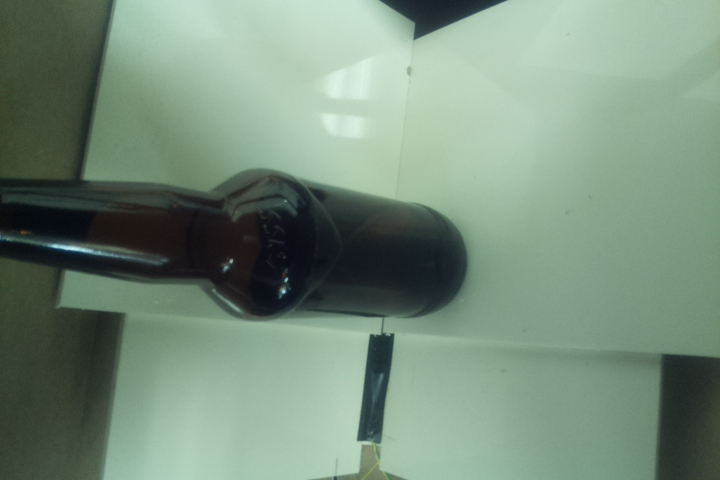makju: (1, 165, 469, 326)
